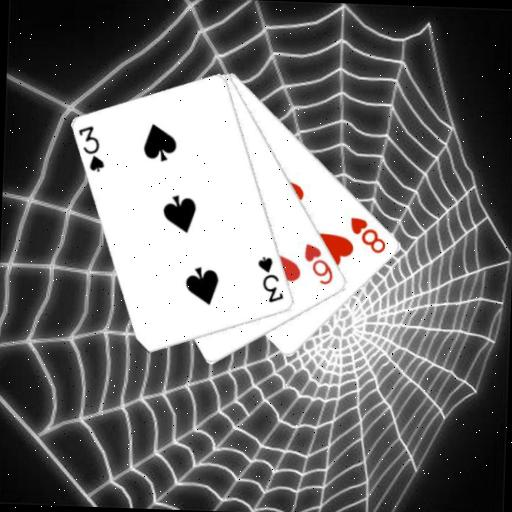3S: (253, 253, 287, 305), (74, 121, 107, 173)
6H: (300, 240, 337, 287)
8H: (346, 213, 388, 255)
